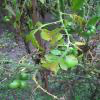Tomato Septoria leaf spot: (39, 53, 67, 75), (22, 27, 45, 52), (49, 32, 64, 46), (39, 28, 52, 41), (66, 55, 80, 64), (72, 41, 89, 46)
